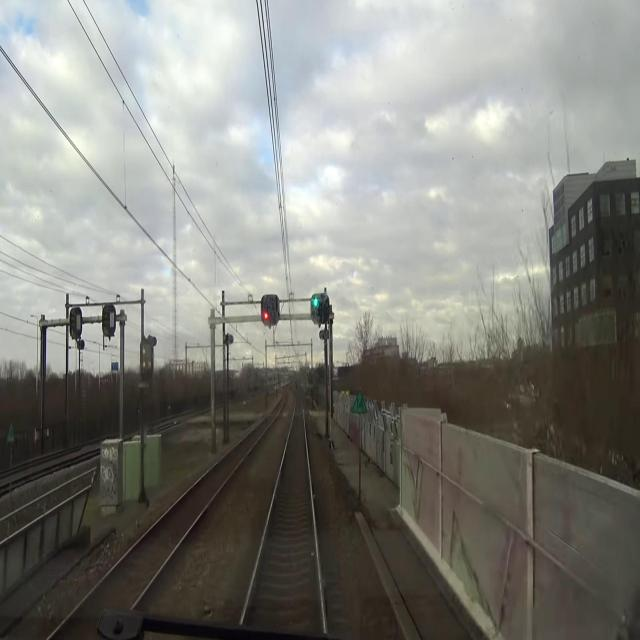rail-track: (54, 416, 272, 639), (245, 398, 323, 629)
